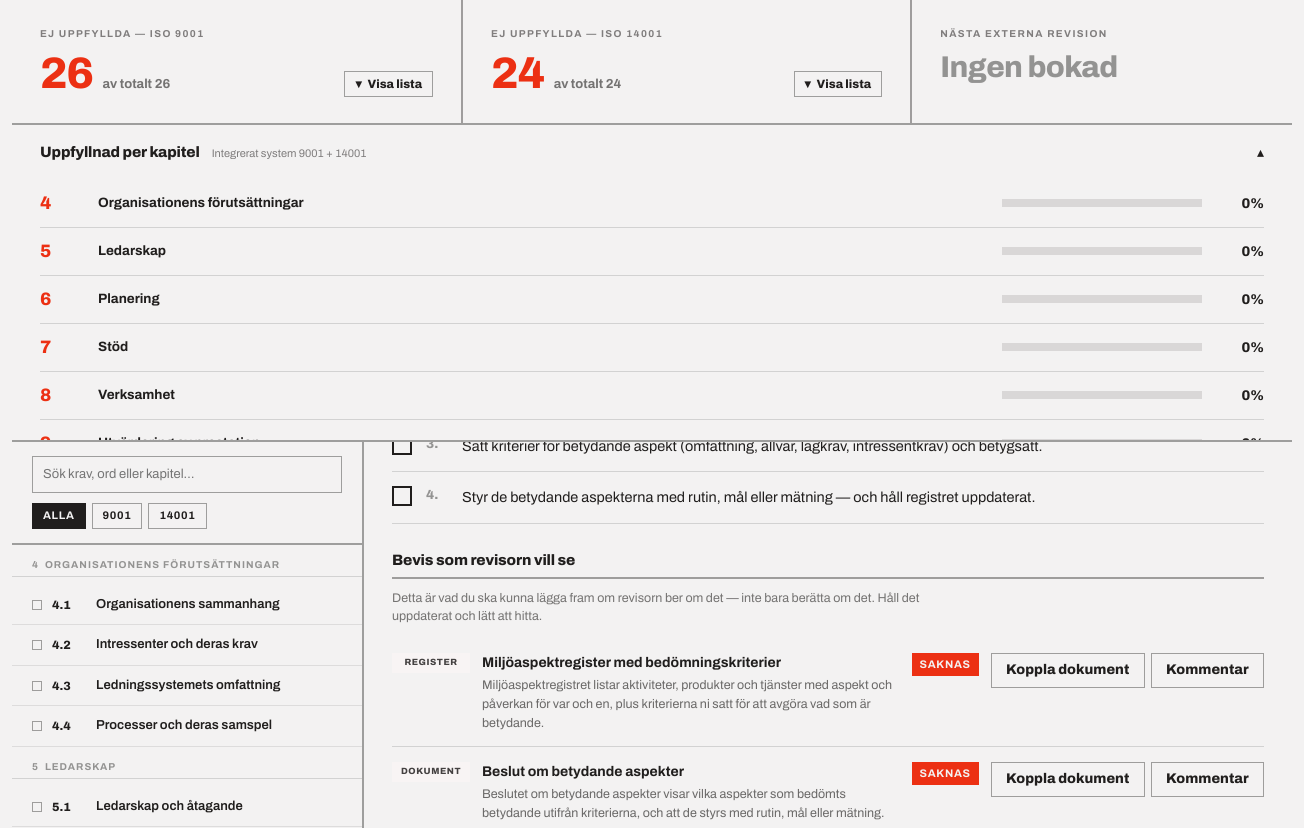
Scenario: linking evidence to documents › opens a picker listing the document register from the row button
The image size is (1304, 828).
(page scrolled)
Click the 1st button "Koppla dokument": (1068, 670) [991,653,1145,688]
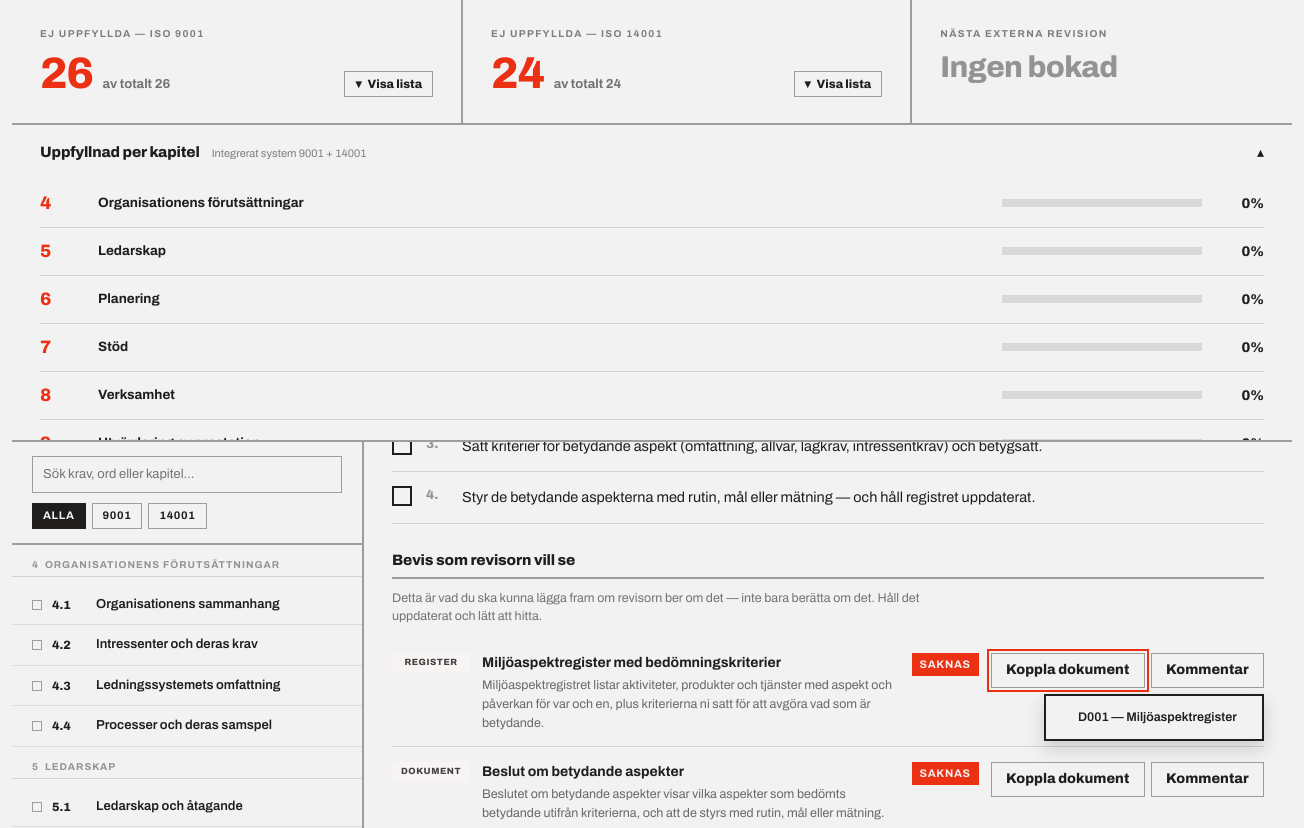
Now the menu item "D001 — Miljöaspektregister" is shown, box [1050,700,1258,735]
